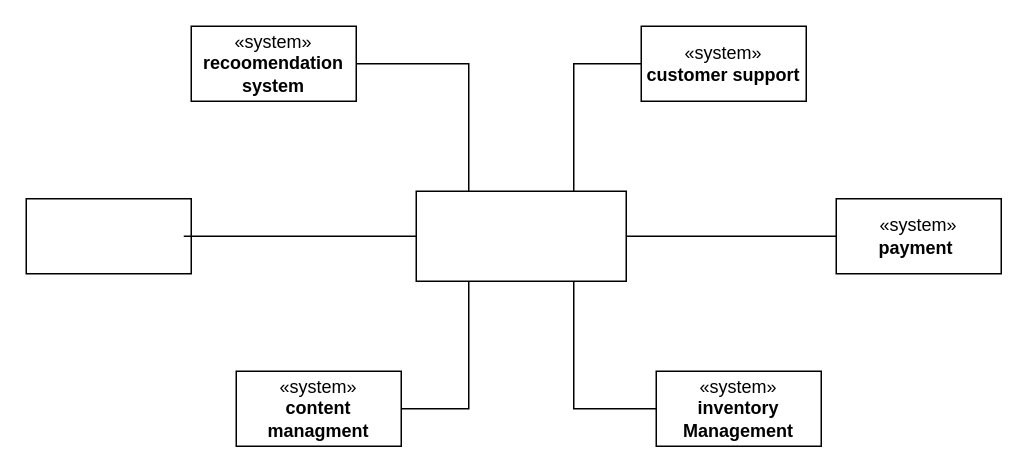
This 1028x473 diagram has some shape labels left out. Here are the shapes that lost their labels. From the top down, the centre of each, then its label:
point 108,235: «system» register
point 520,235: «system» Bookstore
